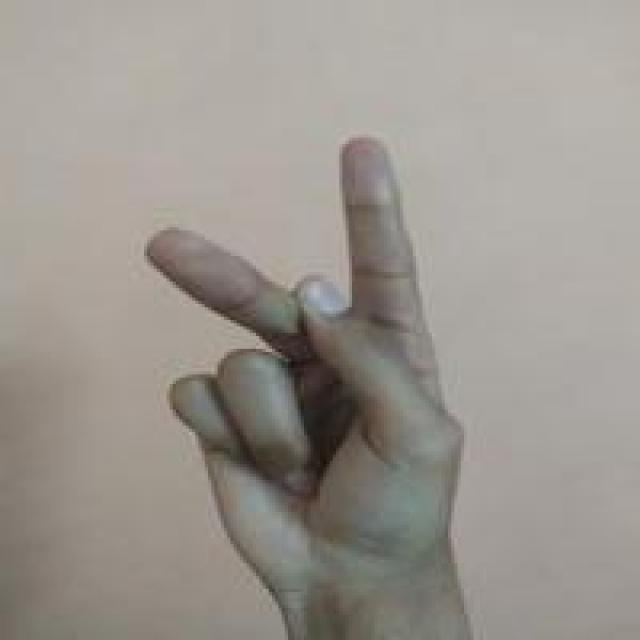K: (132, 126, 482, 594)
